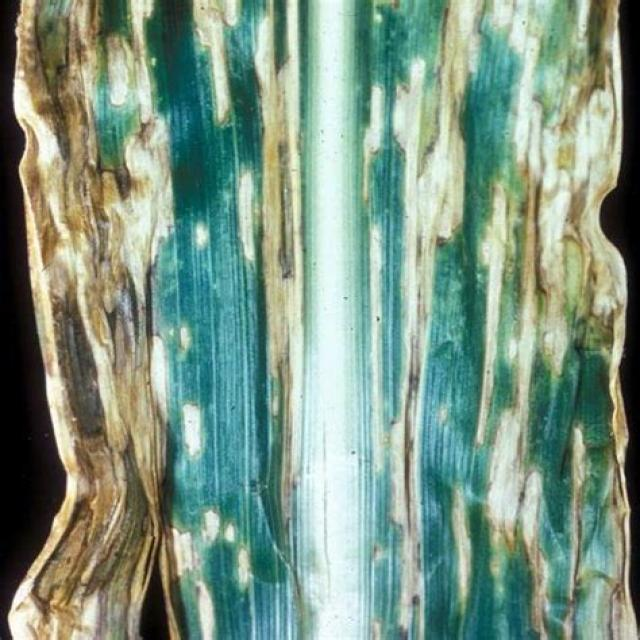blight: (19, 0, 166, 640), (502, 4, 639, 640)
